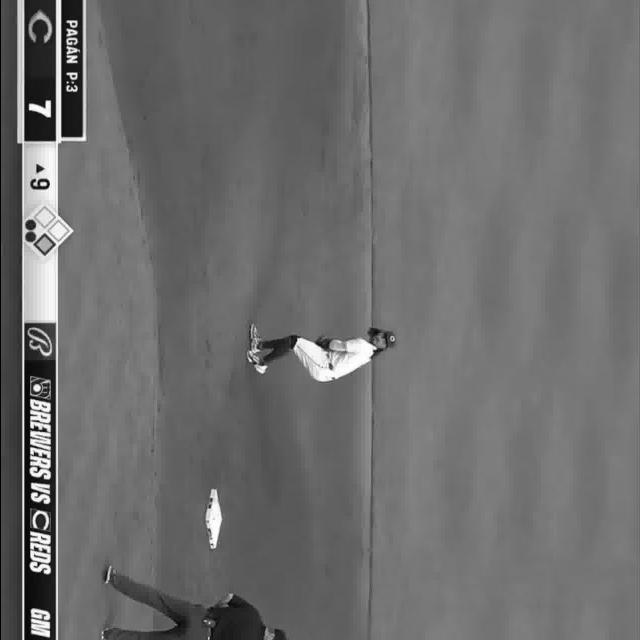base: (201, 489, 225, 552)
shoe: (242, 351, 266, 377), (244, 323, 258, 355)
